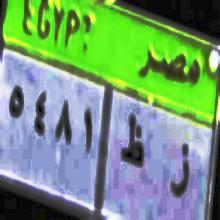1: (81, 100, 97, 160)
4: (32, 84, 49, 156)
5: (5, 78, 27, 138)
8: (55, 103, 75, 153)
Thaa: (120, 113, 147, 175)
zay: (170, 136, 192, 205)
